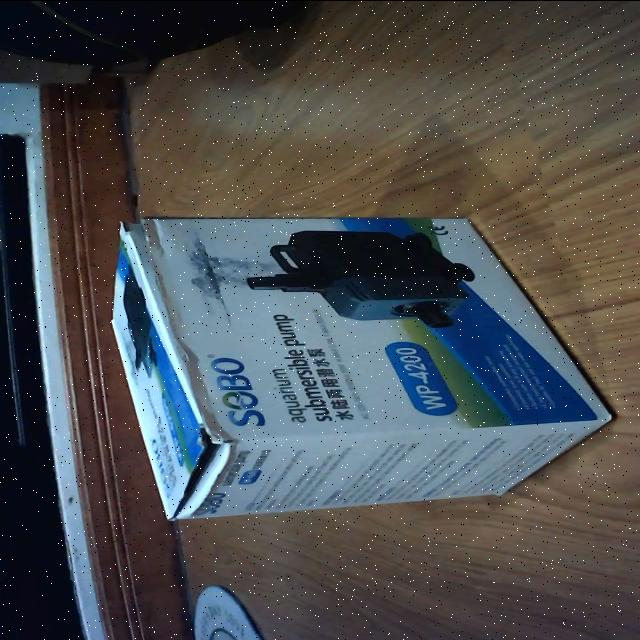SOBO_WP_4200: (108, 199, 624, 521)
